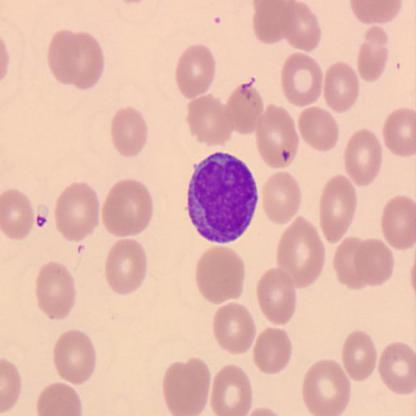Promyelocyte: (186, 154, 258, 248)
